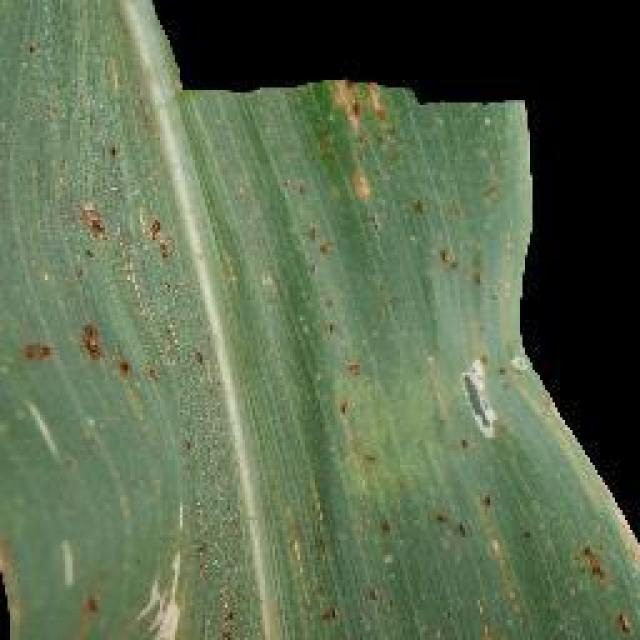Corn Common Rust: (111, 106, 556, 576)
